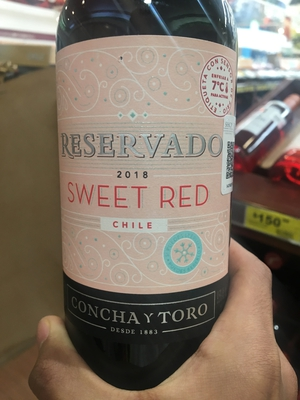reservado sweet red: (53, 2, 246, 361)
